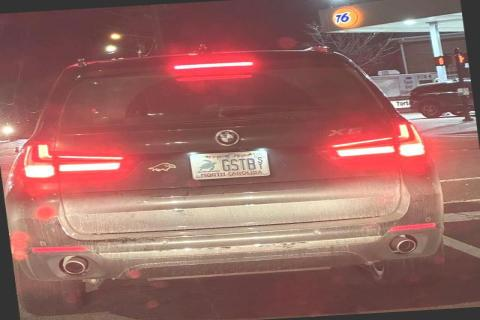LicensePlate: (187, 149, 269, 180)
